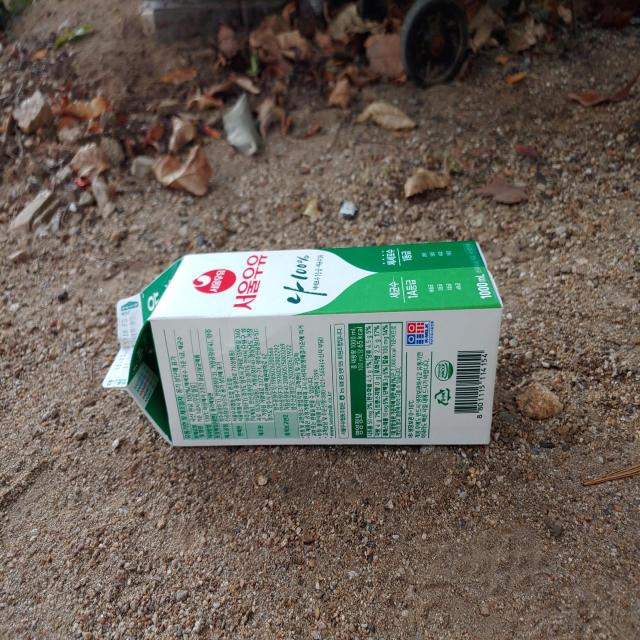paperpack: (102, 240, 502, 446)
